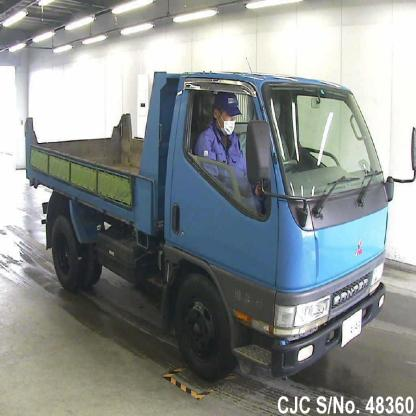truck: (26, 71, 416, 376)
